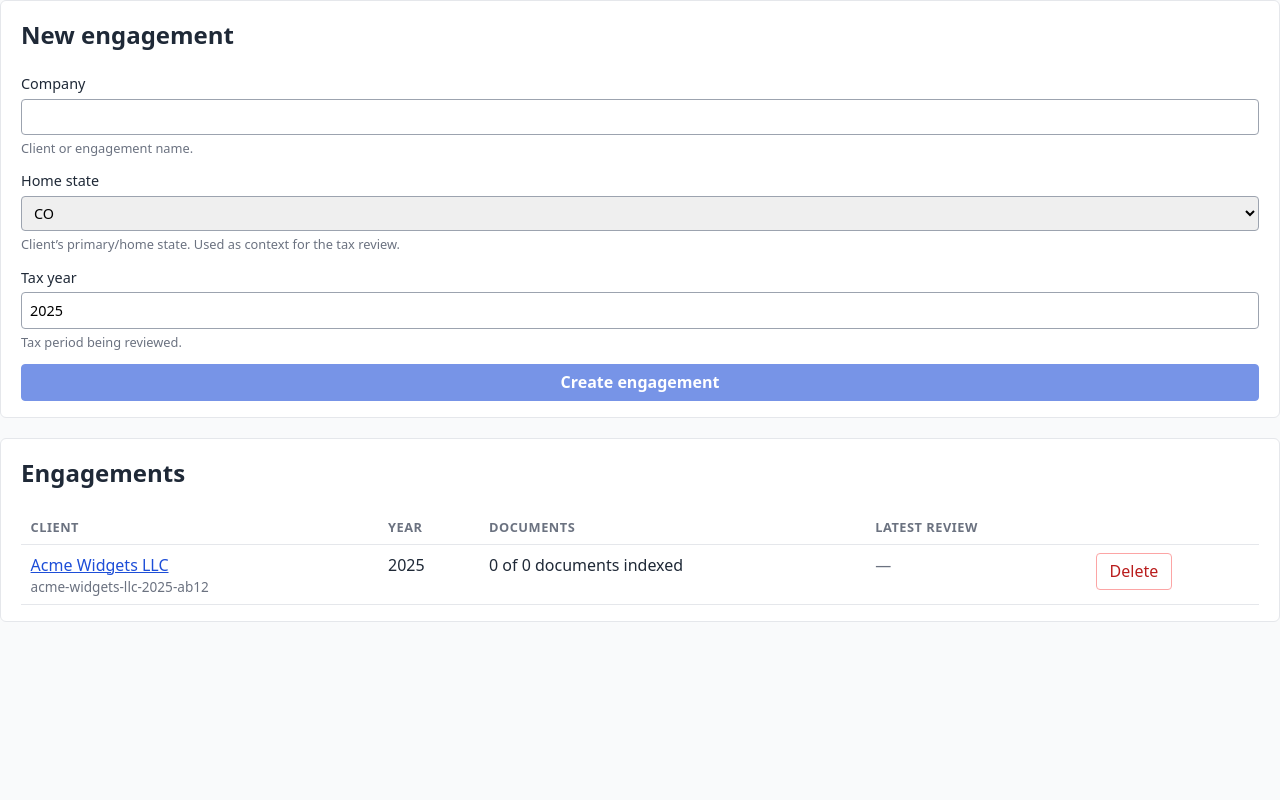
Test case: HomePage › deletes an engagement only after confirmation
The width and height of the screenshot is (1280, 800).
What coordinates should you click on to do the following:
click the button "Delete"
I would click on:
 (1134, 571)
Its box is [1096,553,1172,590].
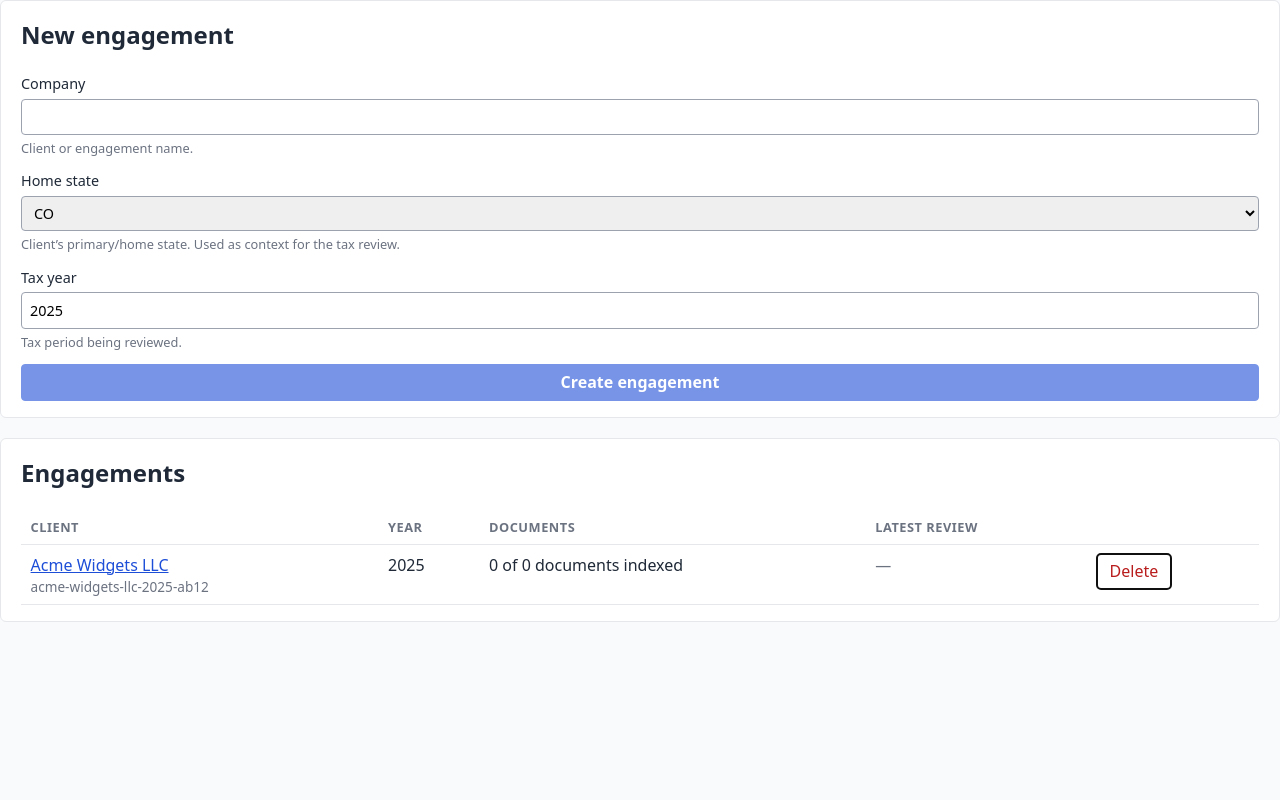
What coordinates should you click on to do the following:
click the button "Delete"
I would click on:
 (1134, 571)
Its box is [1096,553,1172,590].
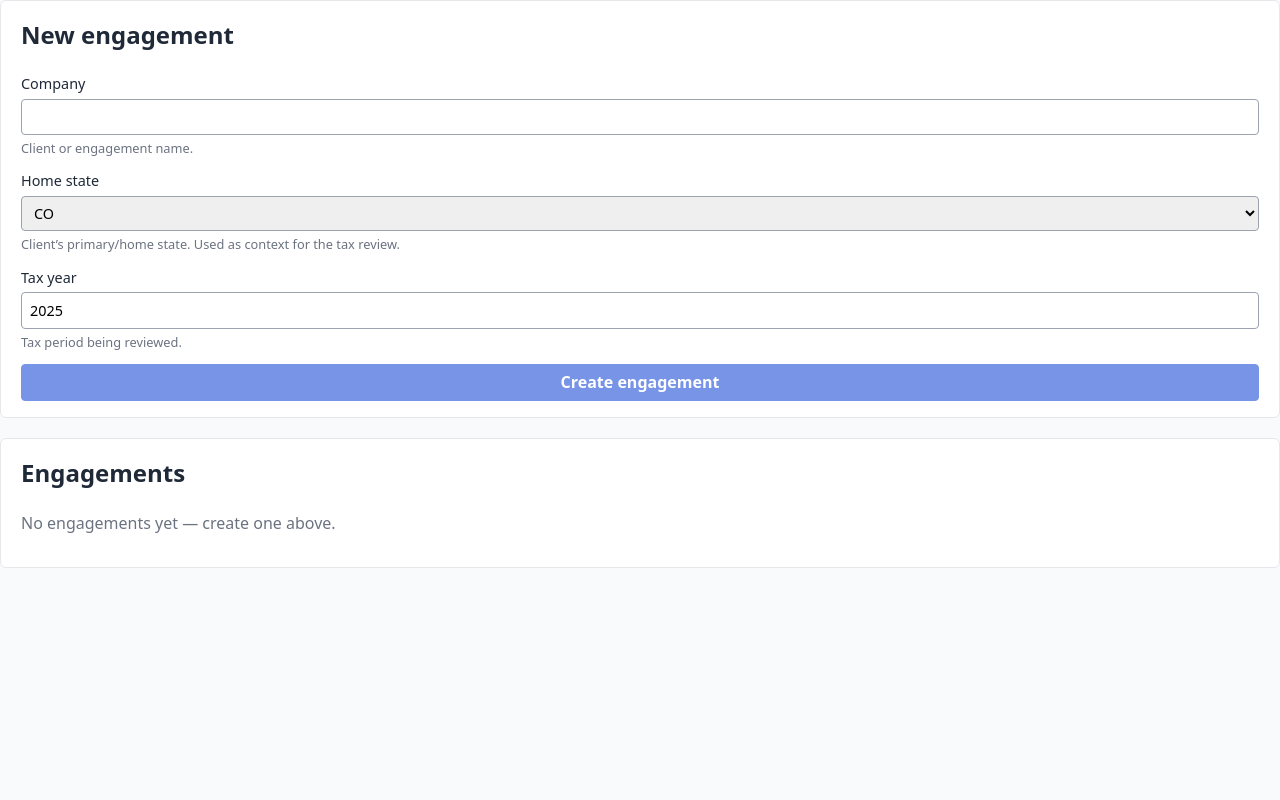
Expected: the text "No engagements yet — create one above." is shown, [21,512,336,534]
